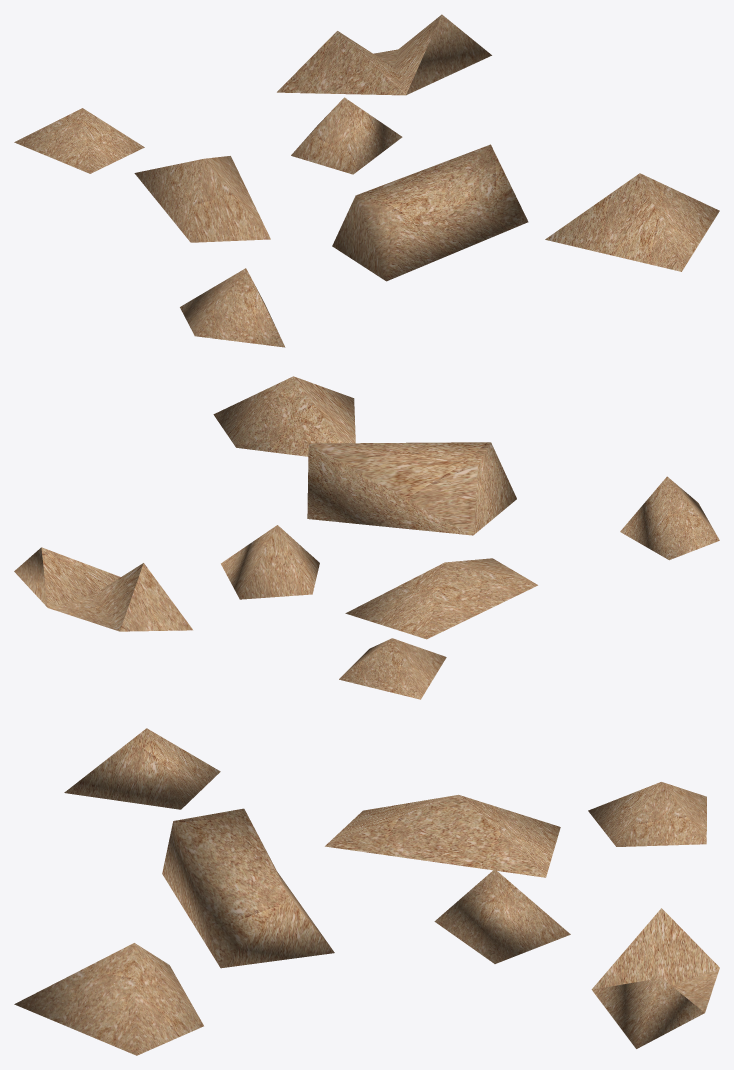
File: rock_pebbleclump_a1_l3.fbx
3 views of the same model, one above another, from view 1: azimuth 30°, elevation 25°; view 2: azimuth 150°, elevation 25°; view 3: azimuth 270°, elevation 25° (orthographic). The views are drawn at different scales.
Visible parts, largest first — view 1: mesh_node; view 2: mesh_node; view 3: mesh_node.
Part boxes in pixels (bbox=[...]): mesh_node: bbox=[14, 14, 719, 347]; mesh_node: bbox=[14, 376, 719, 699]; mesh_node: bbox=[14, 728, 719, 1055].
Size of the model in its own units: 1.21 by 0.1302 by 1.22.
